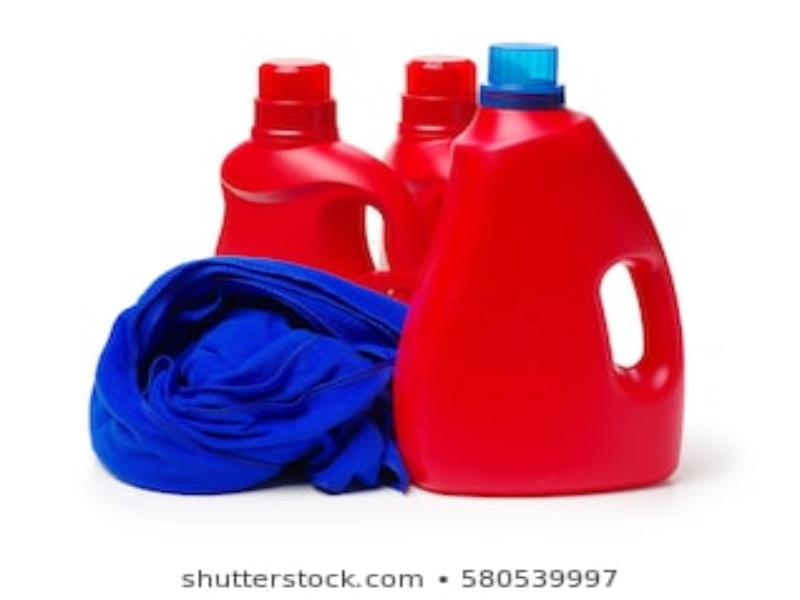detergent-bottle: (393, 37, 681, 500), (213, 56, 425, 298), (389, 53, 481, 202)
